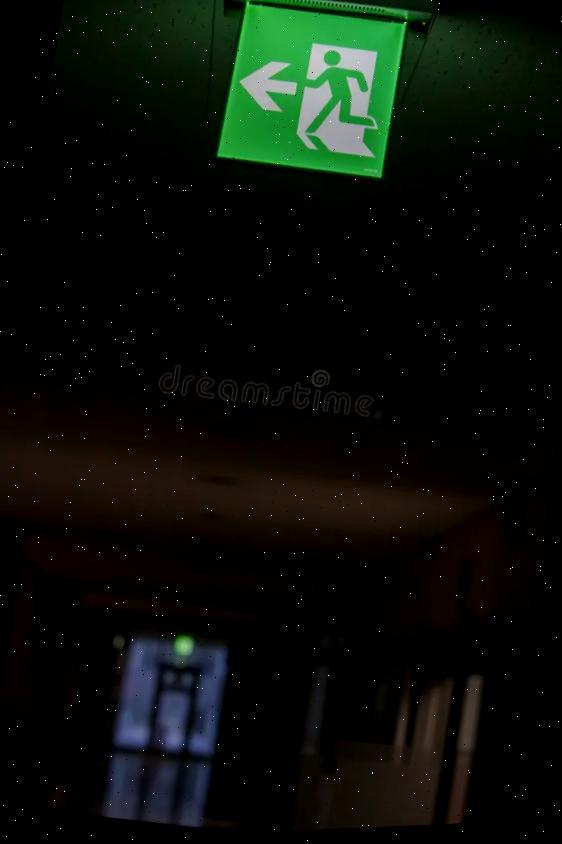emergency_exit: (215, 1, 409, 180)
